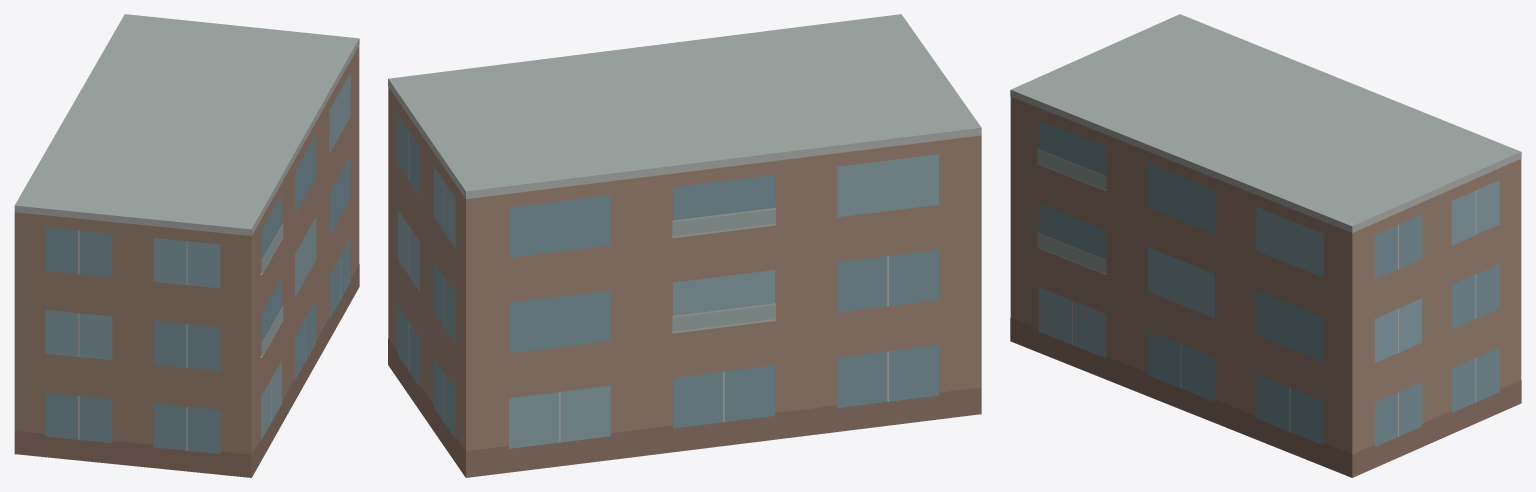
Rendered from survey-upis-32509490.glb.
3 views of the same model, side by side, from view 1: azimuth 30°, elevation 25°; view 2: azimuth 150°, elevation 25°; view 3: azimuth 270°, elevation 25° (orthographic). The views are drawn at different scales.
Parts seen in each view (by area): view 1: survey-upis-32509490.tmp; view 2: survey-upis-32509490.tmp; view 3: survey-upis-32509490.tmp.
Boxes of the visible parts, bbox=[...] form: survey-upis-32509490.tmp: bbox=[14, 14, 359, 477]; survey-upis-32509490.tmp: bbox=[388, 14, 981, 477]; survey-upis-32509490.tmp: bbox=[1010, 14, 1521, 477].
Bounding box in the file's own units: 16.58 × 9.15 × 16.86.
